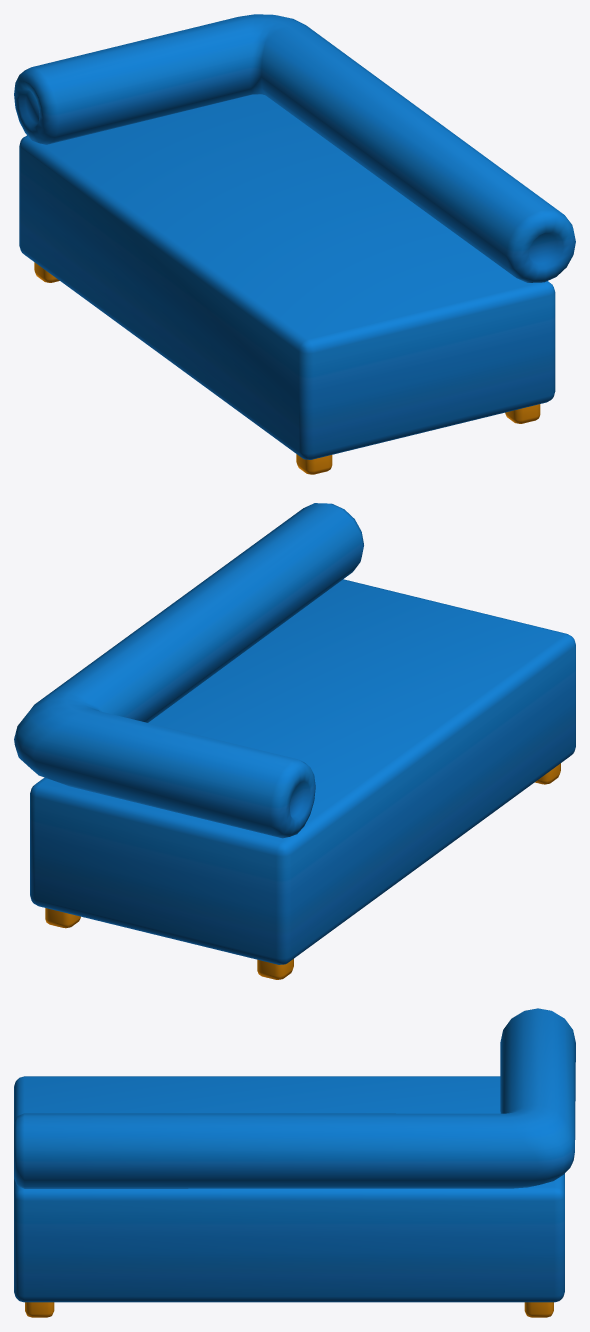
The model's file is Couch_04.glb.
3 views of the same model, one above another, from view 1: azimuth 30°, elevation 25°; view 2: azimuth 150°, elevation 25°; view 3: azimuth 270°, elevation 25° (orthographic). The views are drawn at different scales.
Parts seen in each view (by area): view 1: Couch_04; view 2: Couch_04; view 3: Couch_04.
Boxes of the visible parts, bbox=[...] form: Couch_04: bbox=[14, 14, 575, 474]; Couch_04: bbox=[14, 503, 575, 979]; Couch_04: bbox=[14, 1008, 575, 1317].
Size of the model in its own units: 0.8666 by 0.6358 by 1.6.
Materials: 1 (1 with a texture image).
